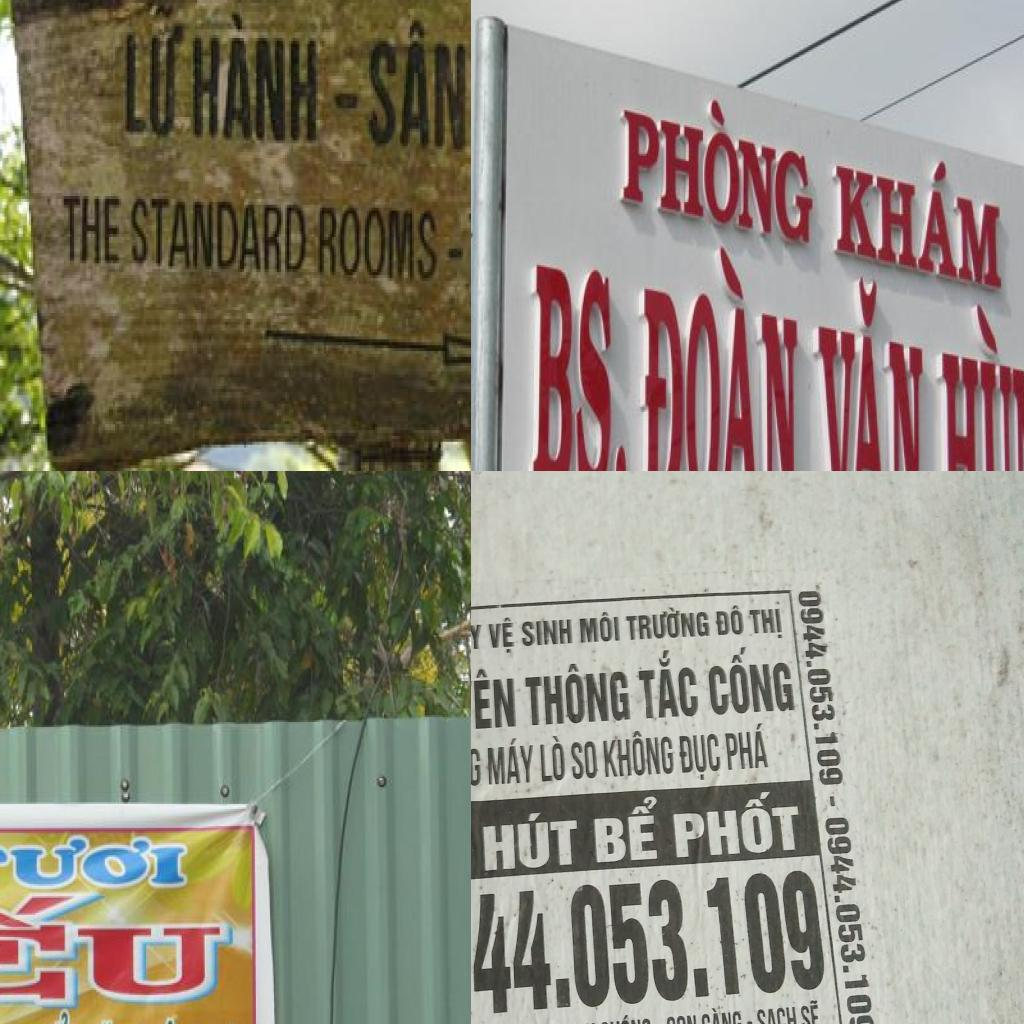text: (471, 864, 829, 1024), (640, 225, 801, 471), (621, 72, 817, 250), (835, 136, 1004, 294), (0, 892, 226, 1008), (810, 267, 928, 471), (530, 261, 633, 471), (187, 6, 326, 152), (127, 193, 312, 281), (938, 294, 1024, 471), (365, 15, 469, 158), (312, 196, 442, 293), (0, 834, 190, 892), (119, 0, 195, 143), (796, 586, 846, 788), (670, 786, 804, 860), (522, 659, 632, 729), (706, 641, 797, 720), (482, 809, 582, 874), (62, 190, 129, 269), (592, 793, 660, 866), (635, 648, 702, 721), (602, 727, 676, 779), (471, 664, 519, 738), (624, 604, 712, 643), (677, 730, 724, 784), (485, 736, 535, 786), (723, 722, 771, 772), (520, 617, 574, 649), (578, 610, 622, 646), (539, 733, 568, 784), (570, 739, 600, 782), (749, 606, 784, 642), (486, 615, 516, 656), (330, 85, 365, 117), (714, 604, 746, 638), (755, 1003, 800, 1024), (699, 1003, 743, 1024), (599, 1011, 654, 1024), (797, 998, 823, 1024), (664, 1011, 700, 1024), (447, 243, 467, 263), (471, 621, 482, 651)
